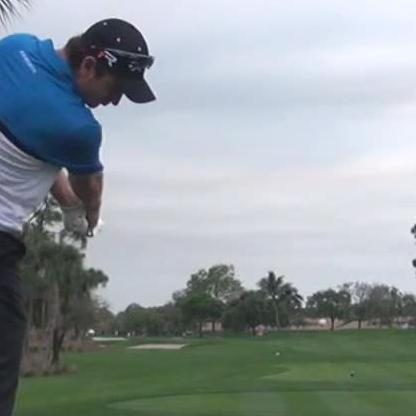golfball: (317, 317, 327, 327)
